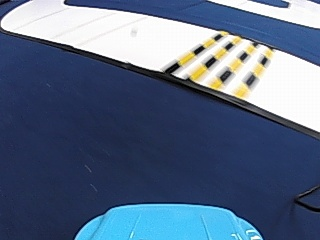bump: (165, 28, 271, 95)
